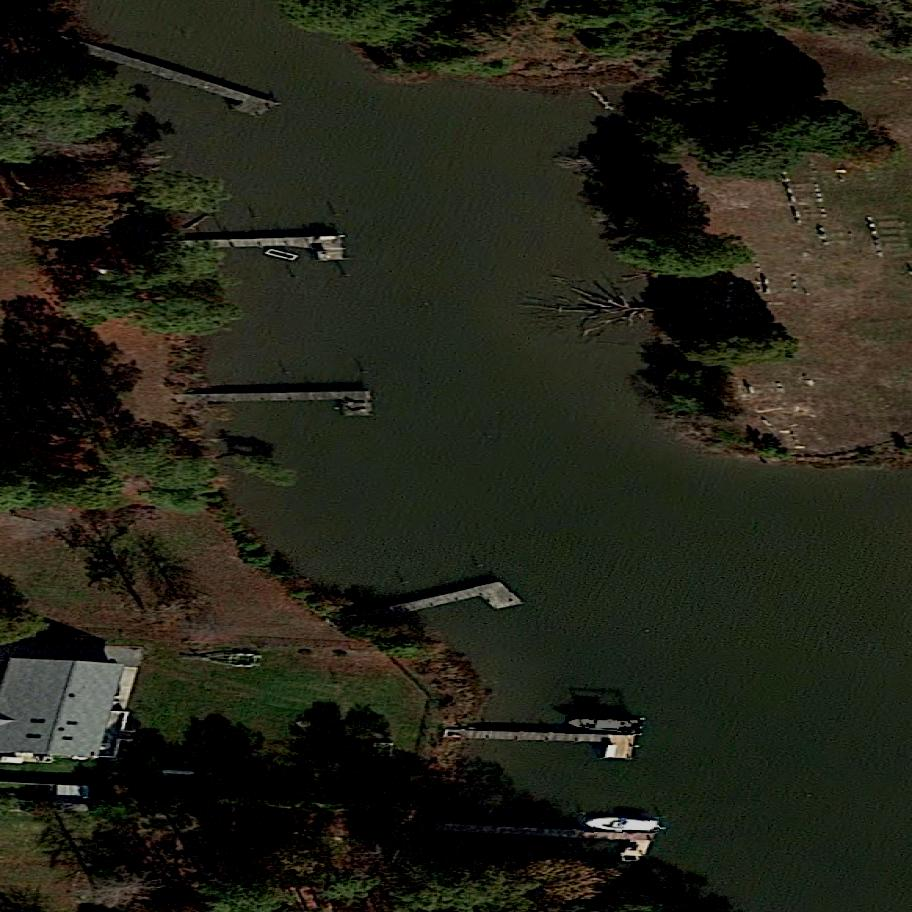ship: (566, 716, 641, 735), (585, 817, 659, 831)
